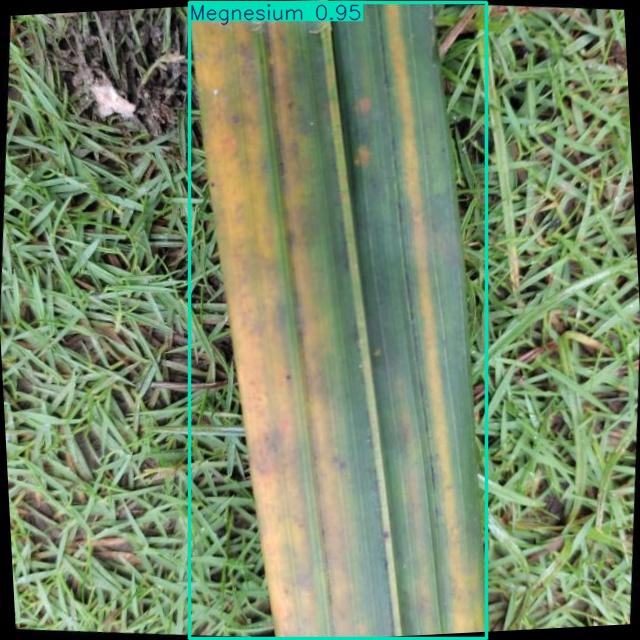Megnesium: (190, 2, 487, 638)
